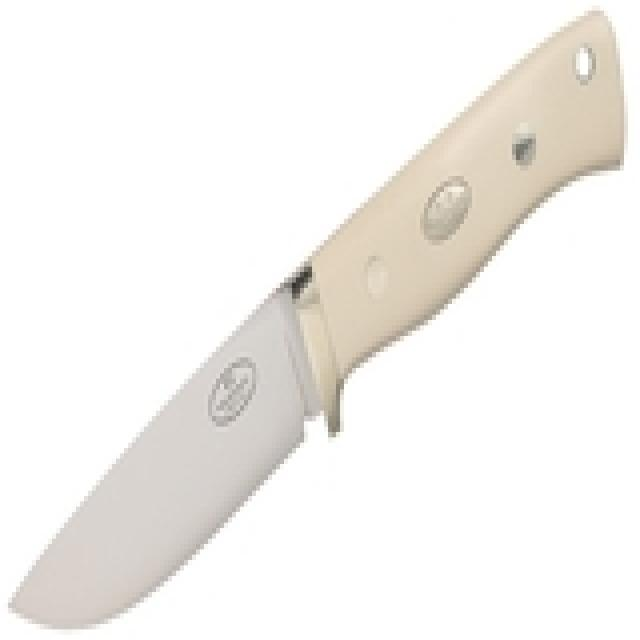Knife: (6, 8, 627, 640)
